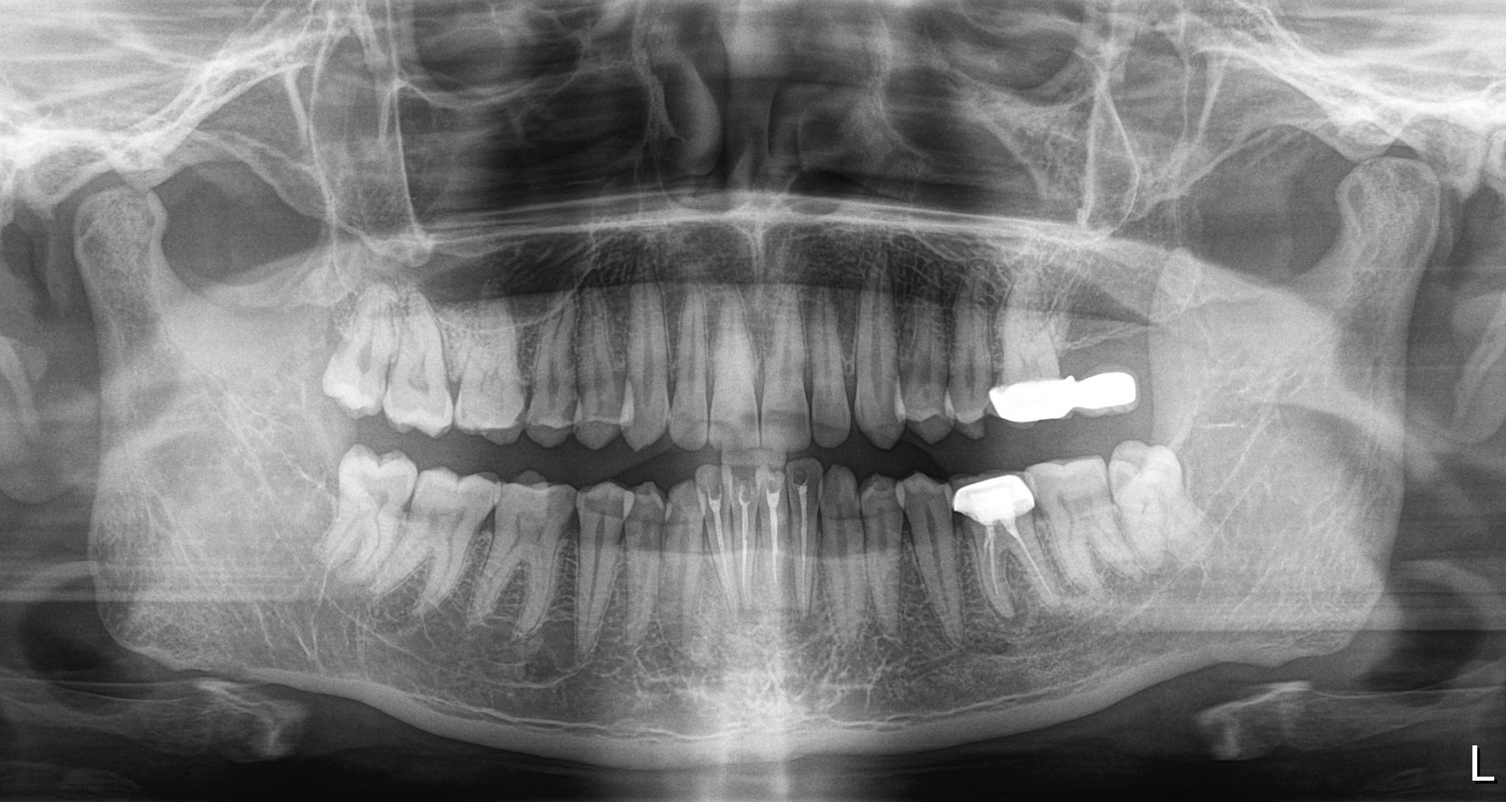Endodontically Treated Tooth: (996, 276, 1129, 424), (956, 480, 1041, 627)
